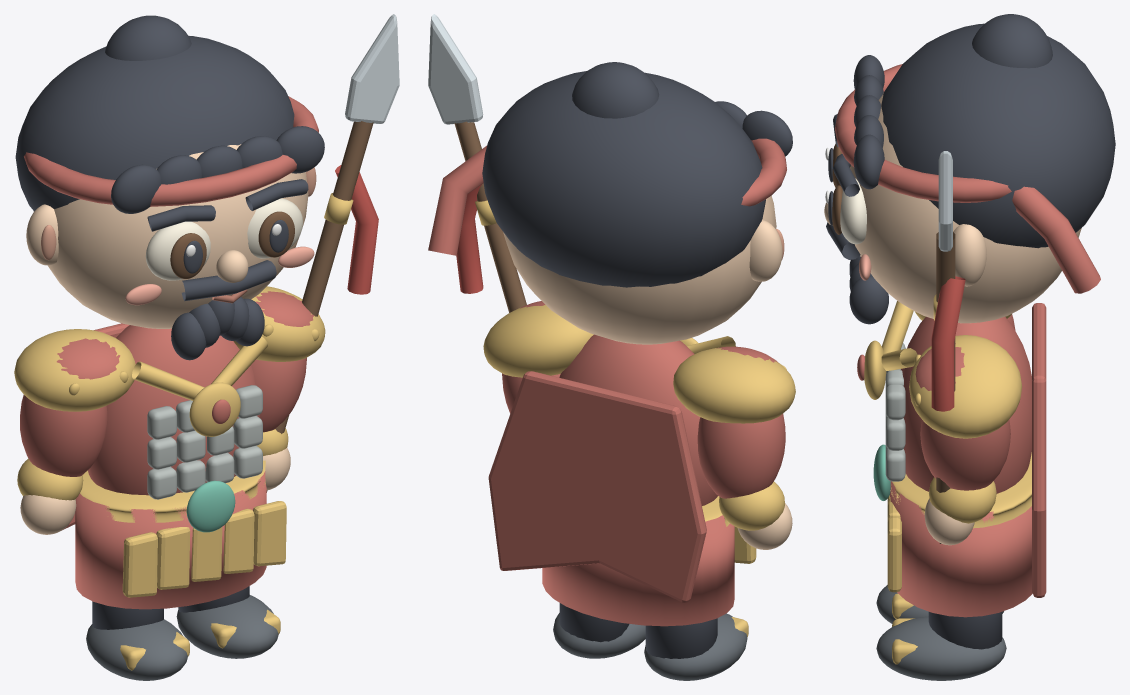
The model's file is ur_zhangfei.fbx.
3 views of the same model, side by side, from view 1: azimuth 30°, elevation 25°; view 2: azimuth 150°, elevation 25°; view 3: azimuth 270°, elevation 25° (orthographic). The views are drawn at different scales.
Parts seen in each view (by area): view 1: hair_mass, face, body, robe_skirt, headband, shoulder_gold.001, sleeve.001, boot, boot.001, spear_tip, weapon_shaft, belt (+54 smaller); view 2: hair_mass, cape, face, robe_skirt, shoulder_gold.001, body, sleeve.001, shoulder_gold, spear_tip, hair_bun, headband_tail, boot (+11 smaller); view 3: hair_mass, face, robe_skirt, shoulder_gold, body, boot.001, cape, sleeve, headband, headband_tail, hair_bun, weapon_tassel (+26 smaller).
Part boxes in pixels (x1,y1,x2,y2): hair_mass: (15,35,294,211); face: (33,144,308,328); body: (88,325,259,495); robe_skirt: (75,471,266,609); headband: (24,96,318,206); shoulder_gold.001: (14,329,135,411); sleeve.001: (20,394,107,476); boot: (86,619,187,680); boot.001: (176,595,278,658); spear_tip: (345,14,399,123); weapon_shaft: (266,121,373,492); belt: (80,460,265,522); hair_mass: (482,71,765,287); cape: (488,371,706,602); face: (503,195,776,344); robe_skirt: (542,515,734,626); shoulder_gold.001: (673,347,795,423); body: (559,334,717,505); sleeve.001: (697,413,785,498); shoulder_gold: (483,305,593,377); spear_tip: (428,14,483,124); hair_bun: (572,62,659,118); headband_tail: (428,145,486,255); boot: (644,613,747,680); hair_mass: (881,23,1115,248); face: (850,93,1081,323); robe_skirt: (889,481,1032,617); shoulder_gold: (909,335,1022,438); body: (900,316,1031,493); boot.001: (876,616,1006,680); cape: (1032,303,1046,597); sleeve: (920,419,1010,490); headband: (835,64,1011,202); headband_tail: (1012,186,1100,293); hair_bun: (972,14,1052,68); weapon_tassel: (931,276,965,411).
Size of the model in its own units: 1.54 by 2.46 by 1.03.
